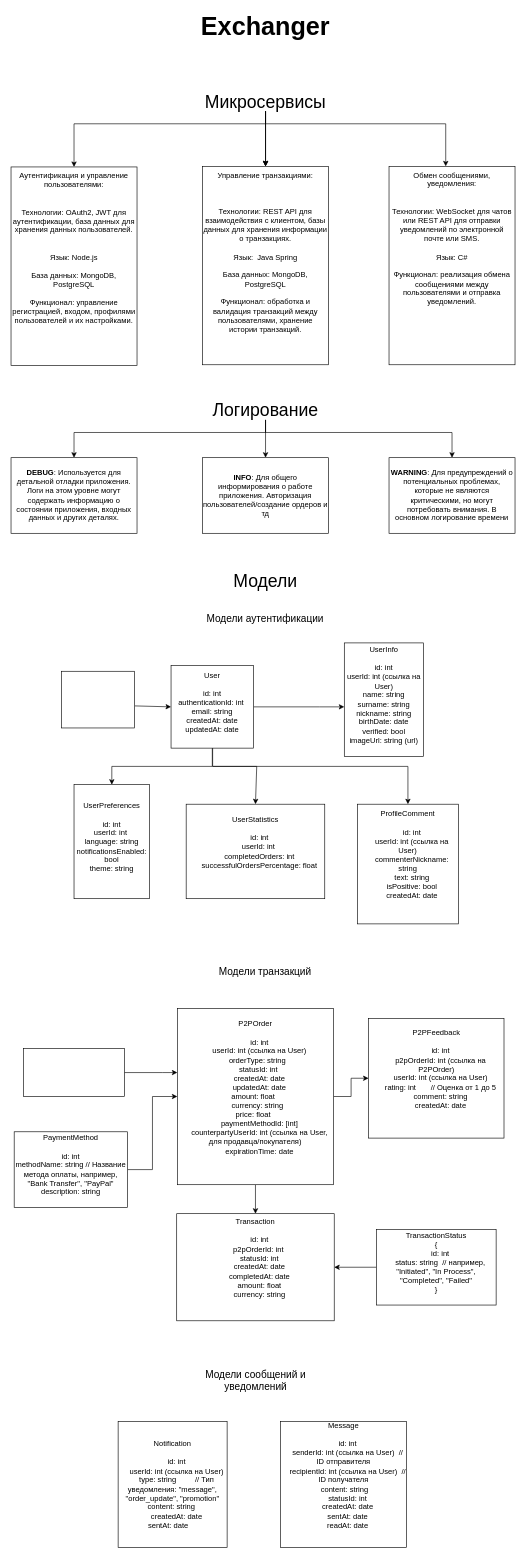
The diagram is 526 pixels wide and 1559 high, and some of its shapes have lost their labels. Here are the shapes that lost their labels. From the top down, the centre of each, then its label:
pixel 98 699: Authentication id: int login: string password: string
pixel 73 1072: P2POrderStatus id: int status: string
